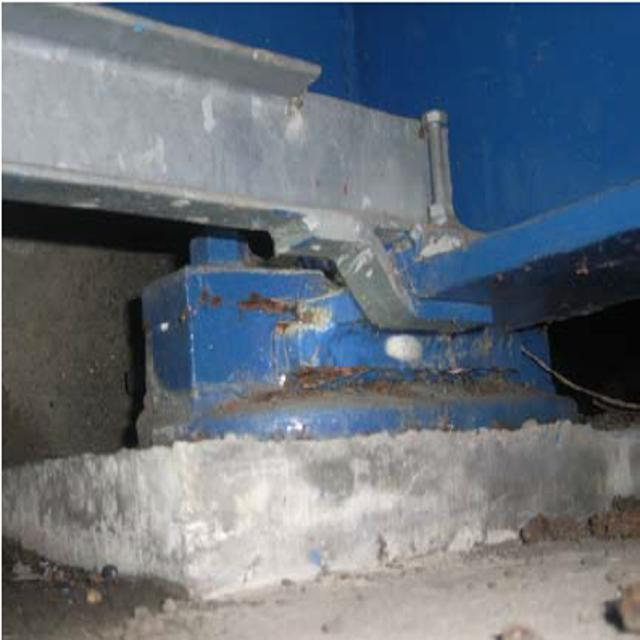corrosion: (195, 268, 546, 432)
